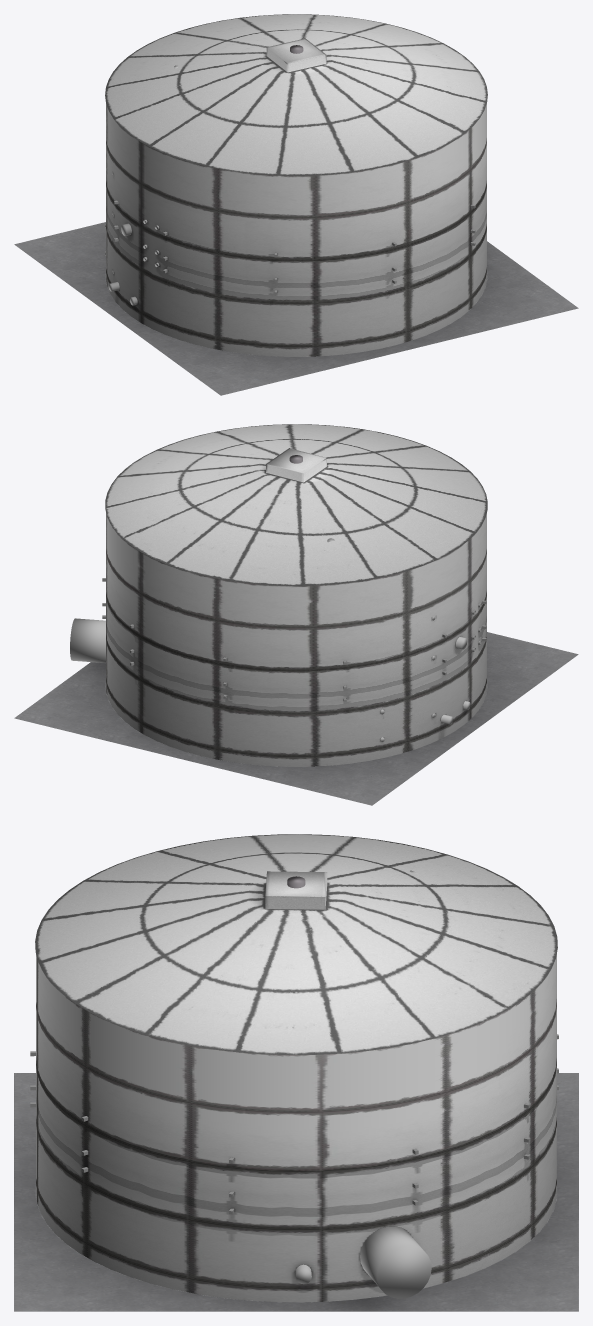
The model's file is READT1interior10.glb.
3 renders of one model, top to bottom at view 1: azimuth 30°, elevation 25°; view 2: azimuth 150°, elevation 25°; view 3: azimuth 270°, elevation 25°, orthographic. The views are drawn at different scales.
Visible parts, largest first — view 1: Cylinder, Circle, Plane; view 2: Cylinder, Circle, Plane, Cylinder.023; view 3: Cylinder, Circle, Plane, Cylinder.023.
Boxes of the visible parts, bbox=[...] form: Cylinder: bbox=[106, 103, 486, 356]; Circle: bbox=[105, 14, 487, 175]; Plane: bbox=[14, 222, 578, 395]; Cylinder: bbox=[106, 513, 486, 766]; Circle: bbox=[105, 424, 487, 585]; Plane: bbox=[14, 632, 578, 805]; Cylinder.023: bbox=[70, 618, 105, 663]; Cylinder: bbox=[36, 954, 556, 1302]; Circle: bbox=[35, 834, 557, 1055]; Plane: bbox=[14, 1073, 578, 1311]; Cylinder.023: bbox=[360, 1226, 431, 1298].
Bounding box in the file's own units: 43.45 × 25.92 × 42.2.
9 materials, 3 textured.
